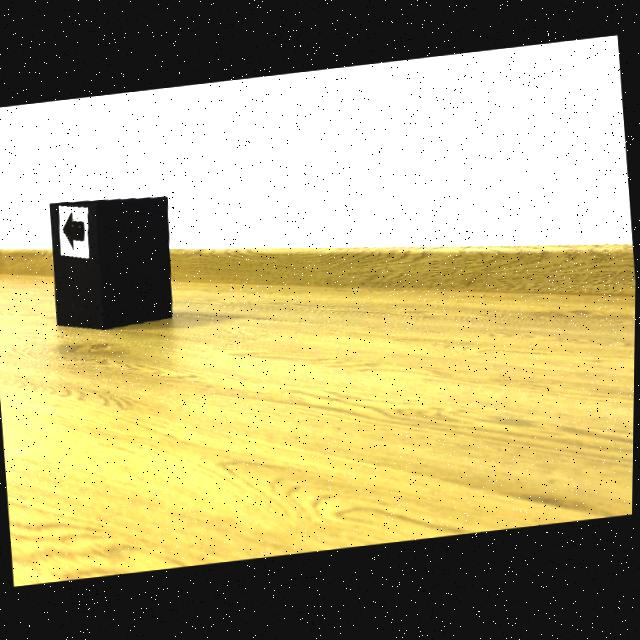LEFT: (63, 213, 86, 248)
